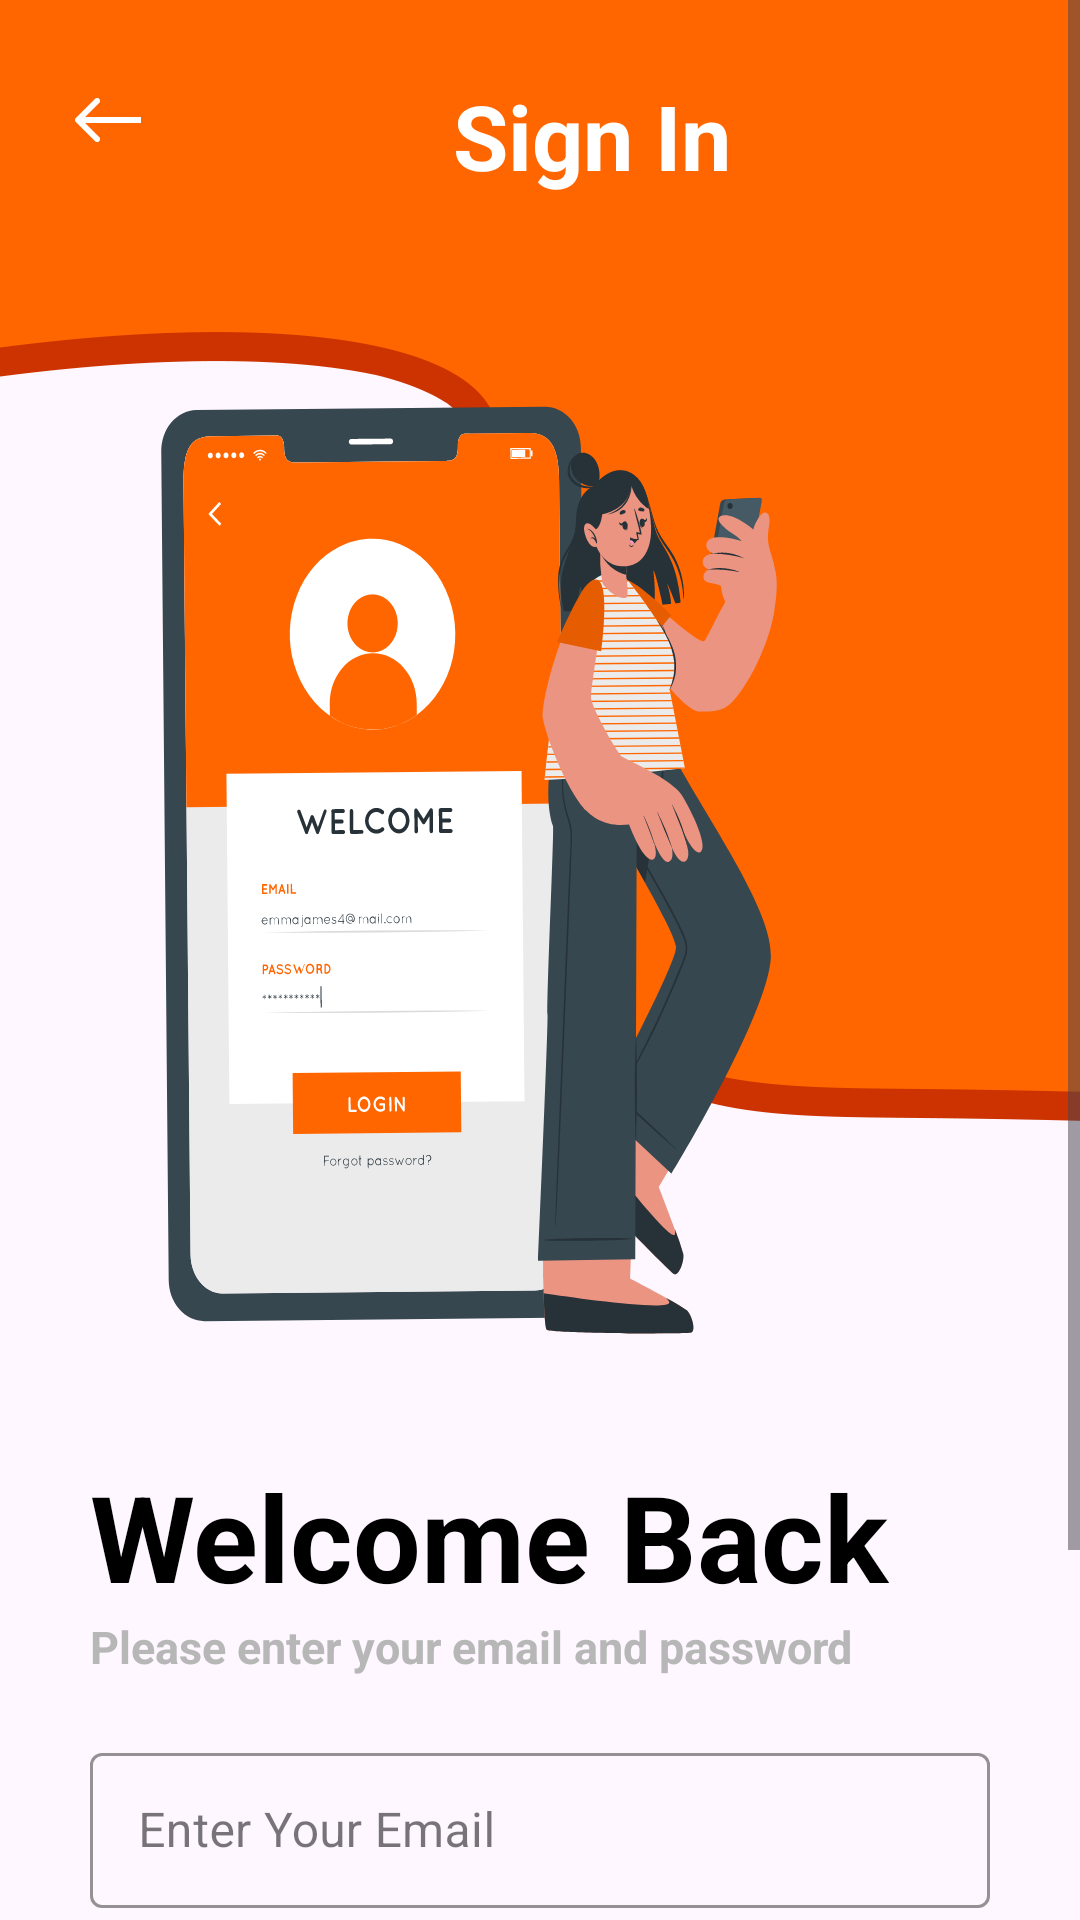

Icons on this 1080px×1920px Android screen, each with the point to tap as (x=x, y=y):
arrowback: (x=108, y=120)
